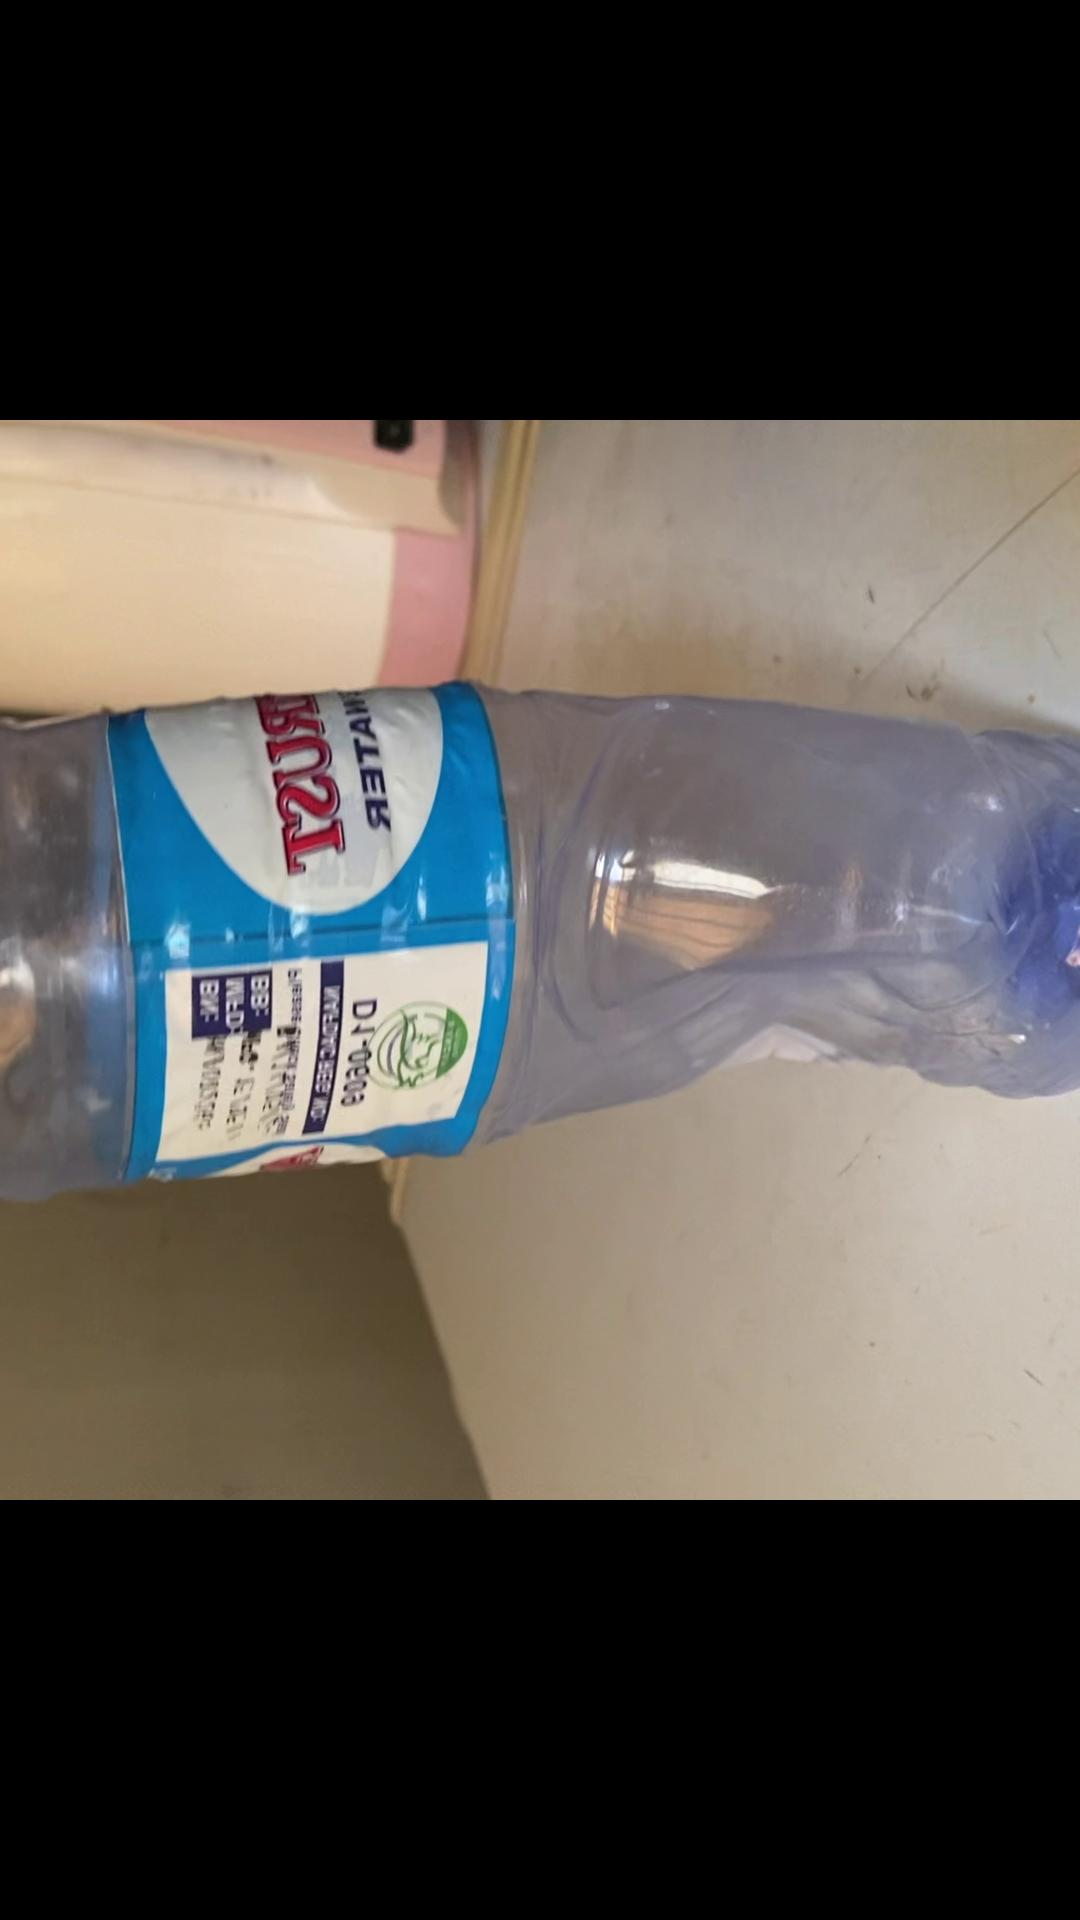crumbled: (0, 676, 1080, 1212)
label: (102, 708, 502, 1170)
